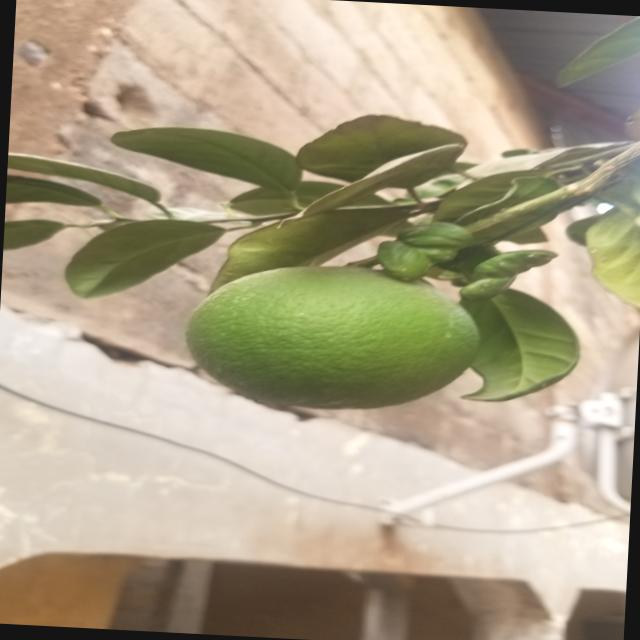Unripe: (165, 253, 493, 432)
